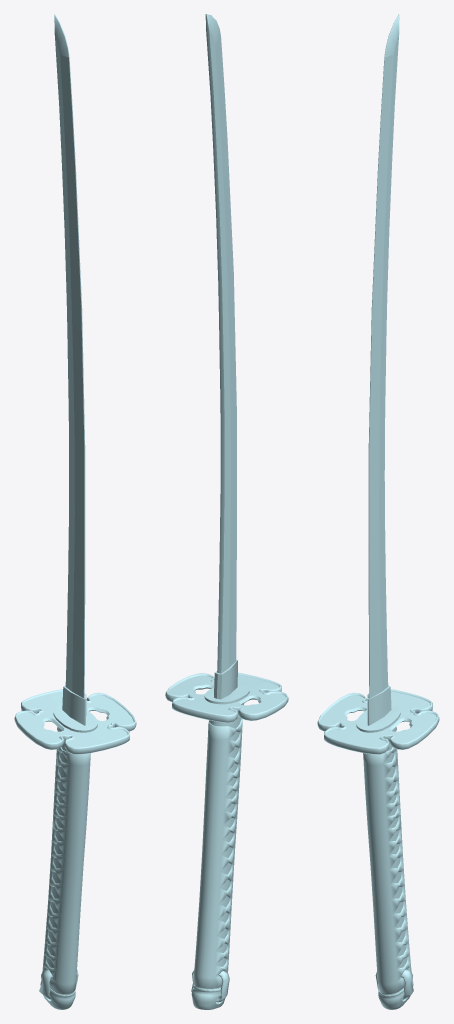
Rendered from katana1.fbx.
3 views of the same model, side by side, from view 1: azimuth 30°, elevation 25°; view 2: azimuth 150°, elevation 25°; view 3: azimuth 330°, elevation 25° (orthographic).
Parts seen in each view (by area): view 1: blade_low, handle_low, handguard_low, scabbard_sleve_low, metal_spacer_up_low, buttcap_low, handle_wrap_end_low; view 2: blade_low, handle_low, handguard_low, scabbard_sleve_low, buttcap_low, metal_spacer_up_low; view 3: blade_low, handle_low, handguard_low, scabbard_sleve_low, metal_spacer_up_low, buttcap_low.
Boxes of the visible parts, x1,y1,x2,y2 form: blade_low: (54, 14, 85, 698); handle_low: (42, 745, 90, 994); handguard_low: (14, 689, 136, 754); scabbard_sleve_low: (62, 685, 86, 725); metal_spacer_up_low: (53, 704, 97, 732); buttcap_low: (40, 981, 75, 1009); handle_wrap_end_low: (39, 969, 78, 999); blade_low: (205, 14, 236, 673); handle_low: (193, 719, 242, 989); handguard_low: (165, 672, 288, 722); scabbard_sleve_low: (214, 659, 237, 699); buttcap_low: (191, 984, 225, 1009); metal_spacer_up_low: (204, 683, 249, 704); blade_low: (368, 14, 399, 698); handle_low: (363, 745, 411, 994); handguard_low: (317, 689, 439, 754); scabbard_sleve_low: (367, 685, 391, 725); metal_spacer_up_low: (356, 704, 400, 732); buttcap_low: (378, 981, 413, 1009).
Bounding box in the file's own units: 11 × 104 × 11.2.
